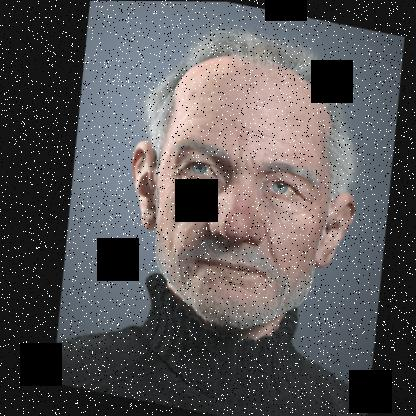Male: (88, 32, 386, 346)
